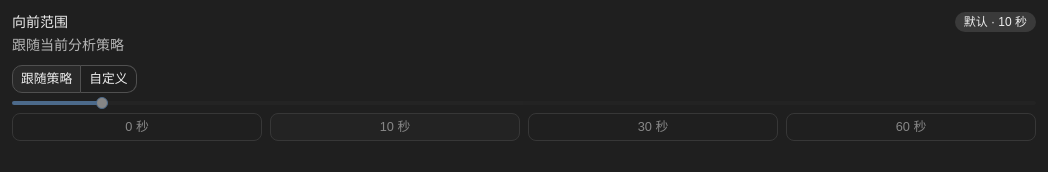
Scenario: MarkerRangeField › switches one side between inherited and explicit values
The width and height of the screenshot is (1048, 172).
Expected: the text "跟随当前分析策略" is shown, [12,34,124,57]
Expected: the text "默认 · 10 秒" is shown, [955,12,1036,32]
Click the radio button with aria-label "向前范围自定义": point(109, 79) [81,65,137,93]
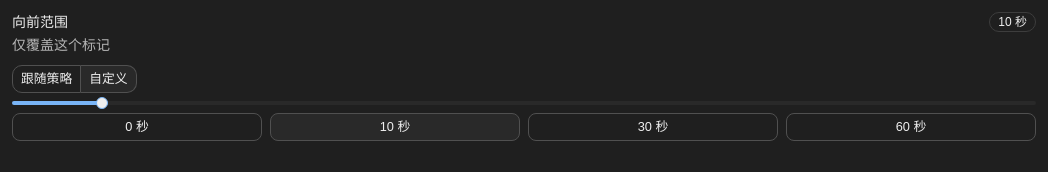
Expected: the text "仅覆盖这个标记" is shown, [12,34,110,57]
Press ArrowRight in the slider named "向前范围秒数", box [96,97,108,109]
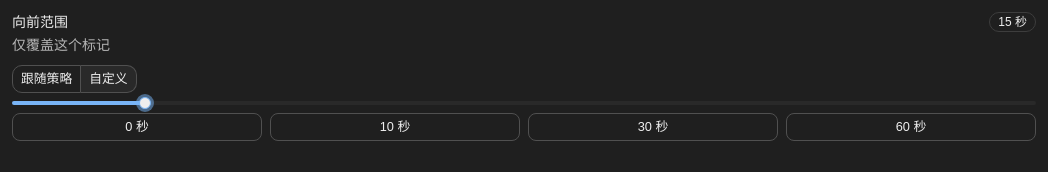
Expected: the icon "15 秒" is shown, [989,12,1036,32]
Click the radio button with aria-label "向前范围跟随策略": point(47, 79) [12,65,81,93]
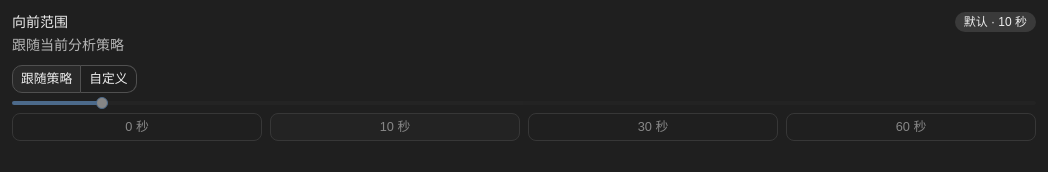
Expected: the text "默认 · 10 秒" is shown, [955,12,1036,32]
